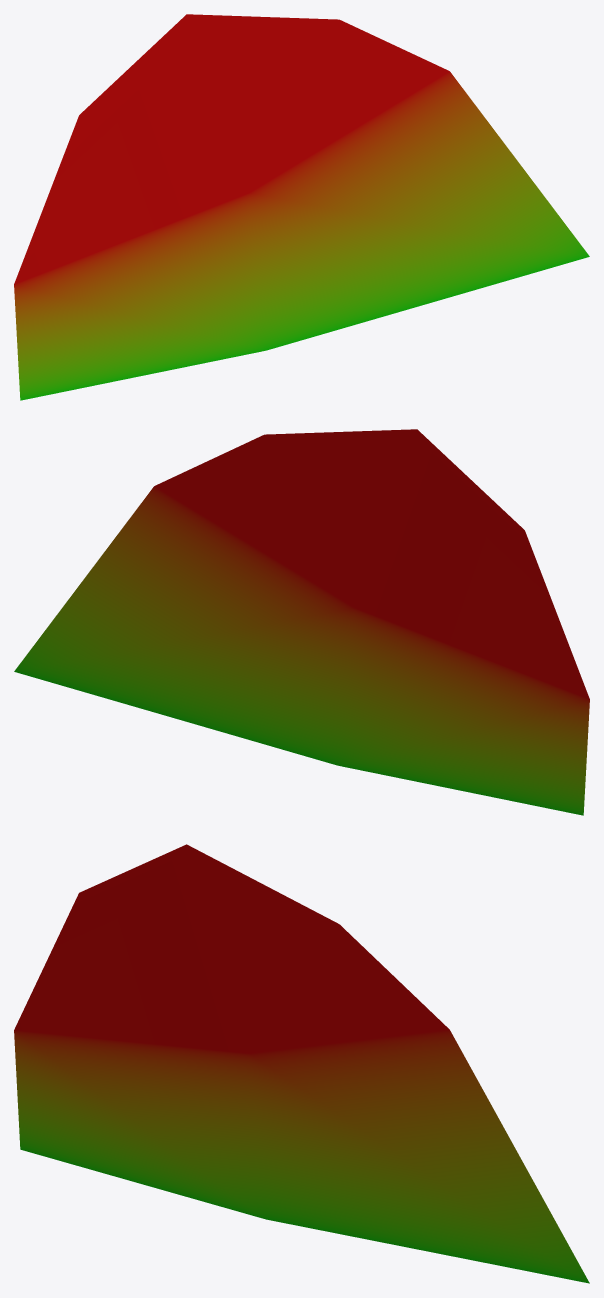
File: Wild Grass_LOD4_Var12_vdilbaiia.fbx
3 renders of one model, top to bottom at view 1: azimuth 30°, elevation 25°; view 2: azimuth 150°, elevation 25°; view 3: azimuth 330°, elevation 25°, orthographic.
Visible parts, largest first — view 1: _ye2b_Var12_LOD4; view 2: _ye2b_Var12_LOD4; view 3: _ye2b_Var12_LOD4.
Boxes of the visible parts, x1,y1,x2,y2 form: _ye2b_Var12_LOD4: [14, 14, 589, 400]; _ye2b_Var12_LOD4: [14, 429, 589, 815]; _ye2b_Var12_LOD4: [14, 844, 589, 1283].
Size of the model in its own units: 87.44 by 51.62 by 6.15e-06.
